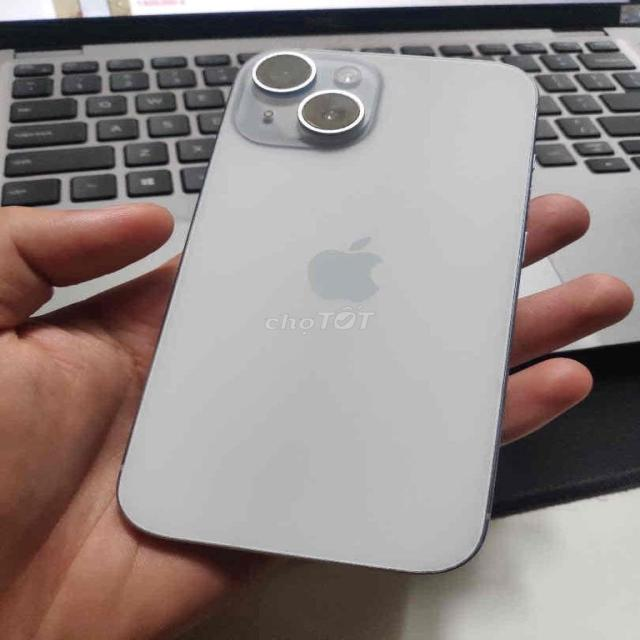gen_15: (123, 41, 543, 582)
